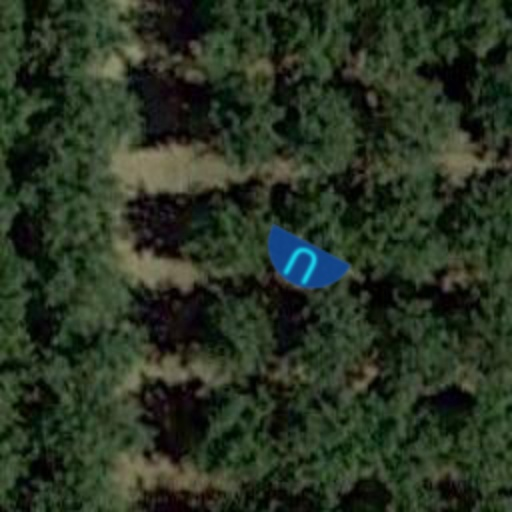semicircle: (242, 204, 362, 324)
